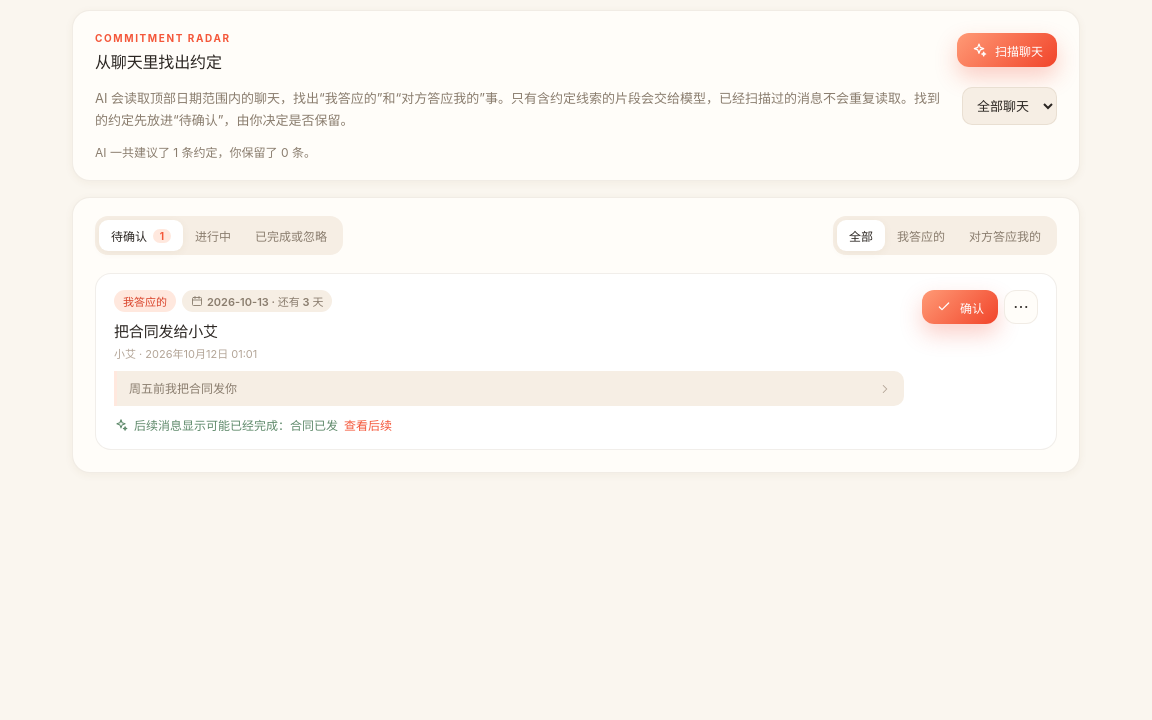
commitment queue › opens the original message
Click the button with aria-label "查看原话". click: (183, 389)
box: [114, 371, 904, 406]
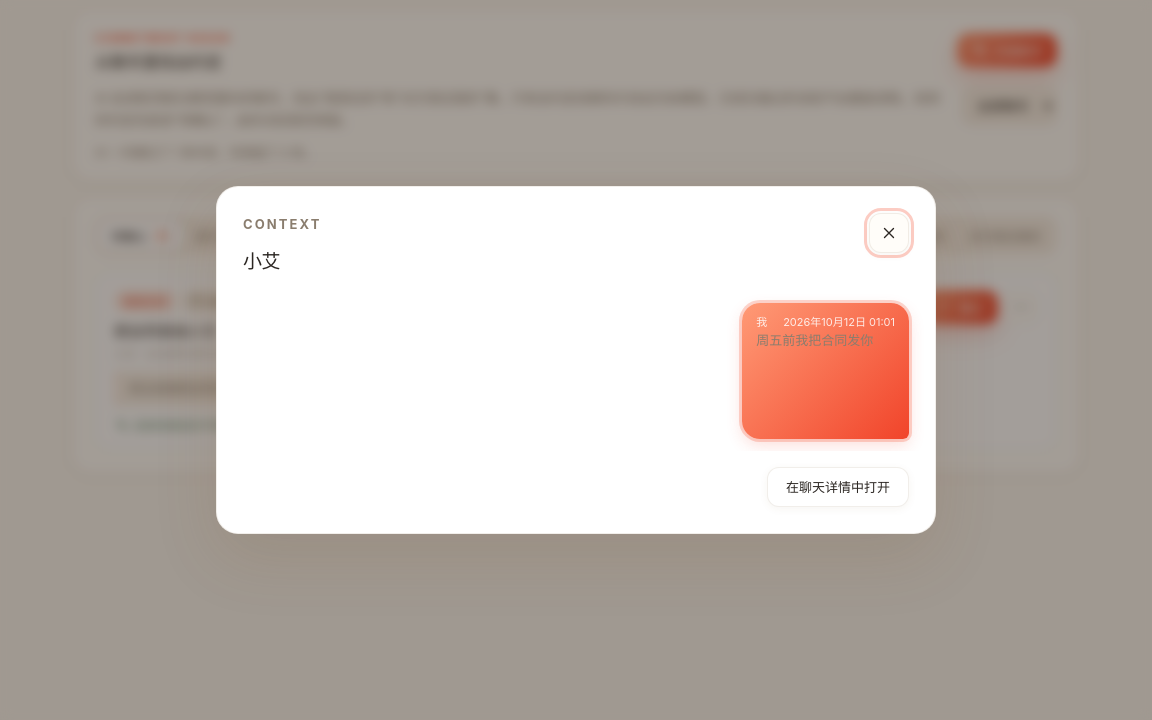
Result: the dialog named "小艾 的聊天上下文" is shown at [216, 186, 936, 534]
